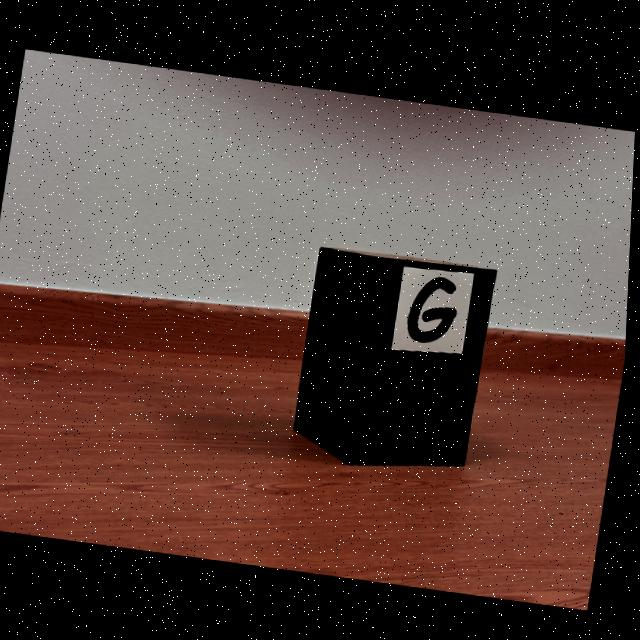G: (410, 274, 460, 339)
